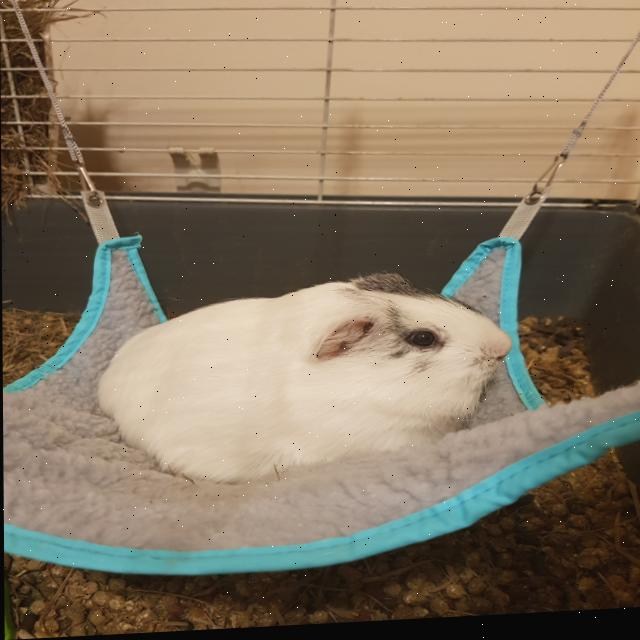guinea pig: (90, 269, 518, 497)
